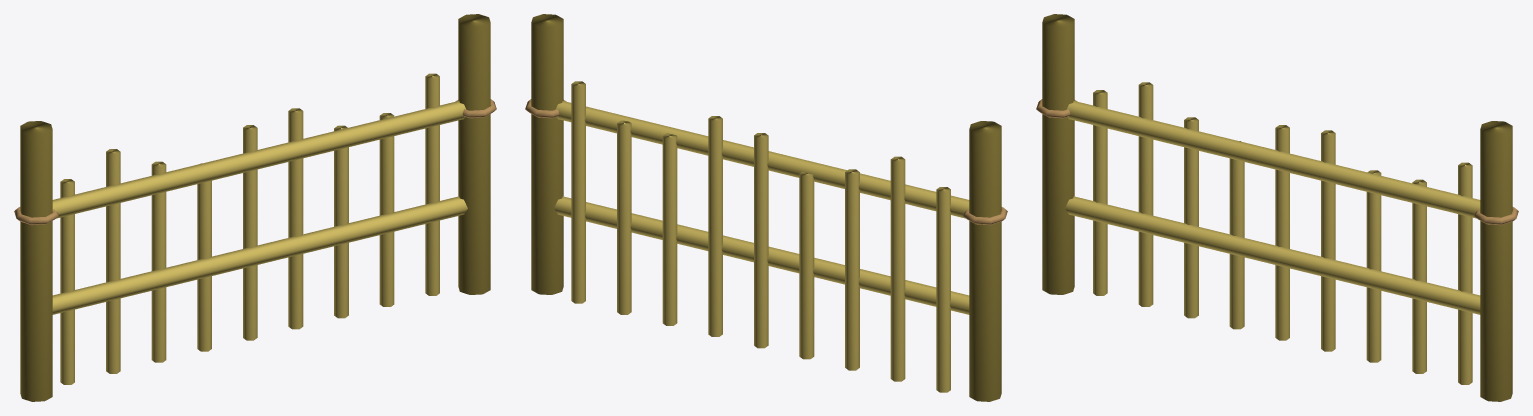
File: jungle_bamboo_fence.glb
3 renders of one model, left to right at view 1: azimuth 30°, elevation 25°; view 2: azimuth 150°, elevation 25°; view 3: azimuth 330°, elevation 25°, orthographic.
Visible parts, largest first — view 1: BambooFence; view 2: BambooFence; view 3: BambooFence.
Part boxes in pixels (box(x1,y1,x2,y2)): BambooFence: box(14, 14, 496, 401); BambooFence: box(525, 14, 1007, 401); BambooFence: box(1036, 14, 1518, 401).
Size of the model in its own units: 2.62 by 1.4 by 0.22.
